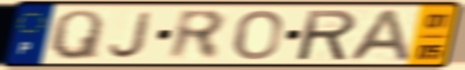A: (343, 7, 414, 64)
J: (106, 10, 156, 60)
O: (232, 8, 285, 62)
Q: (47, 8, 106, 62)
R: (296, 8, 359, 63), (167, 8, 229, 62)
